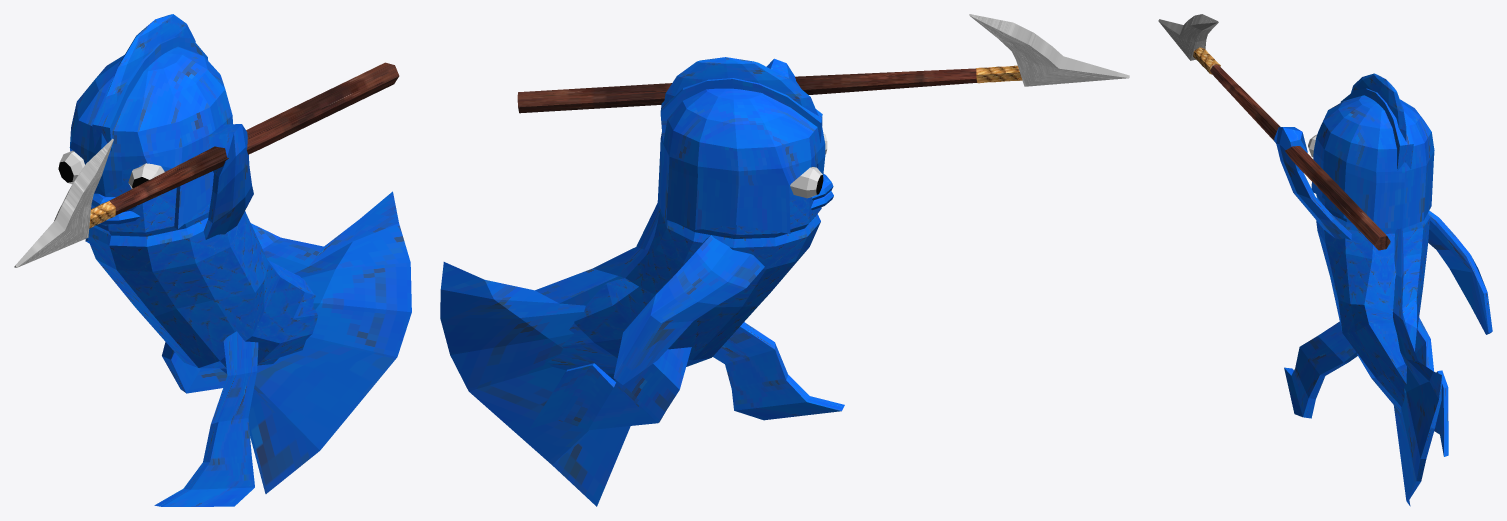
Rendered from GuppyGoon.fbx.
The picture shows the model from 3 angles, left to right: view 1: azimuth 30°, elevation 25°; view 2: azimuth 150°, elevation 25°; view 3: azimuth 270°, elevation 25°; orthographic projection. The views are drawn at different scales.
Visible parts, largest first — view 1: Cylinder.003; view 2: Cylinder.003; view 3: Cylinder.003.
Boxes of the visible parts, box(x1,y1,x2,y2) form: Cylinder.003: box(14, 14, 411, 506); Cylinder.003: box(440, 14, 1129, 506); Cylinder.003: box(1158, 14, 1492, 506).
Size of the model in its own units: 433 by 372 by 294.
11 materials, 9 textured.
